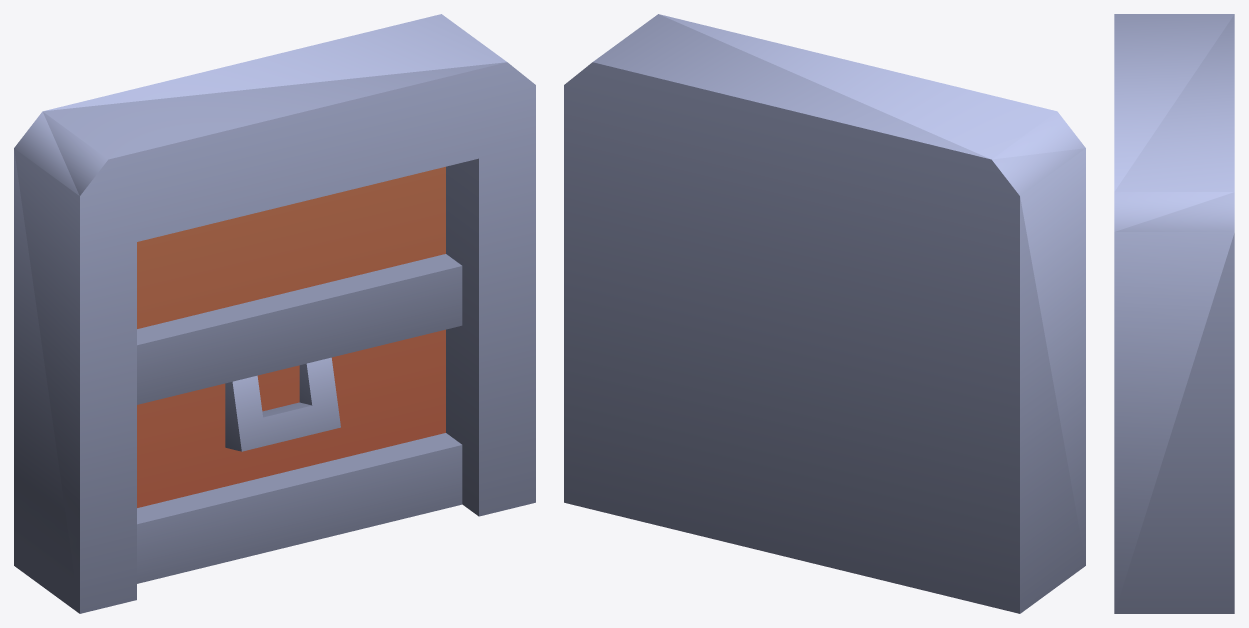
Rendered from dk2_gate.glb.
The picture shows the model from 3 angles, left to right: view 1: azimuth 30°, elevation 25°; view 2: azimuth 150°, elevation 25°; view 3: azimuth 270°, elevation 25°; orthographic projection. The views are drawn at different scales.
Visible parts, largest first — view 1: door; view 2: door; view 3: door.
Part boxes in pixels (x1,y1,x2,y2): door: (14,14,535,613); door: (564,14,1085,613); door: (1114,14,1234,613).
Size of the model in its own units: 0.8 by 0.75 by 0.2.
Materials: 1 (1 with a texture image).
